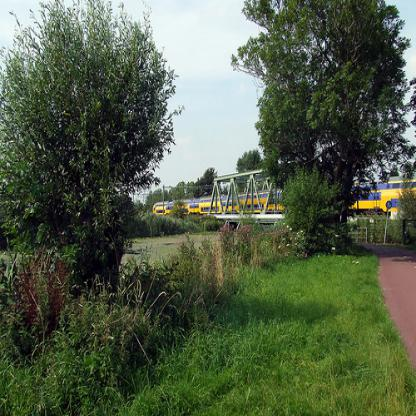train: (152, 175, 415, 214)
